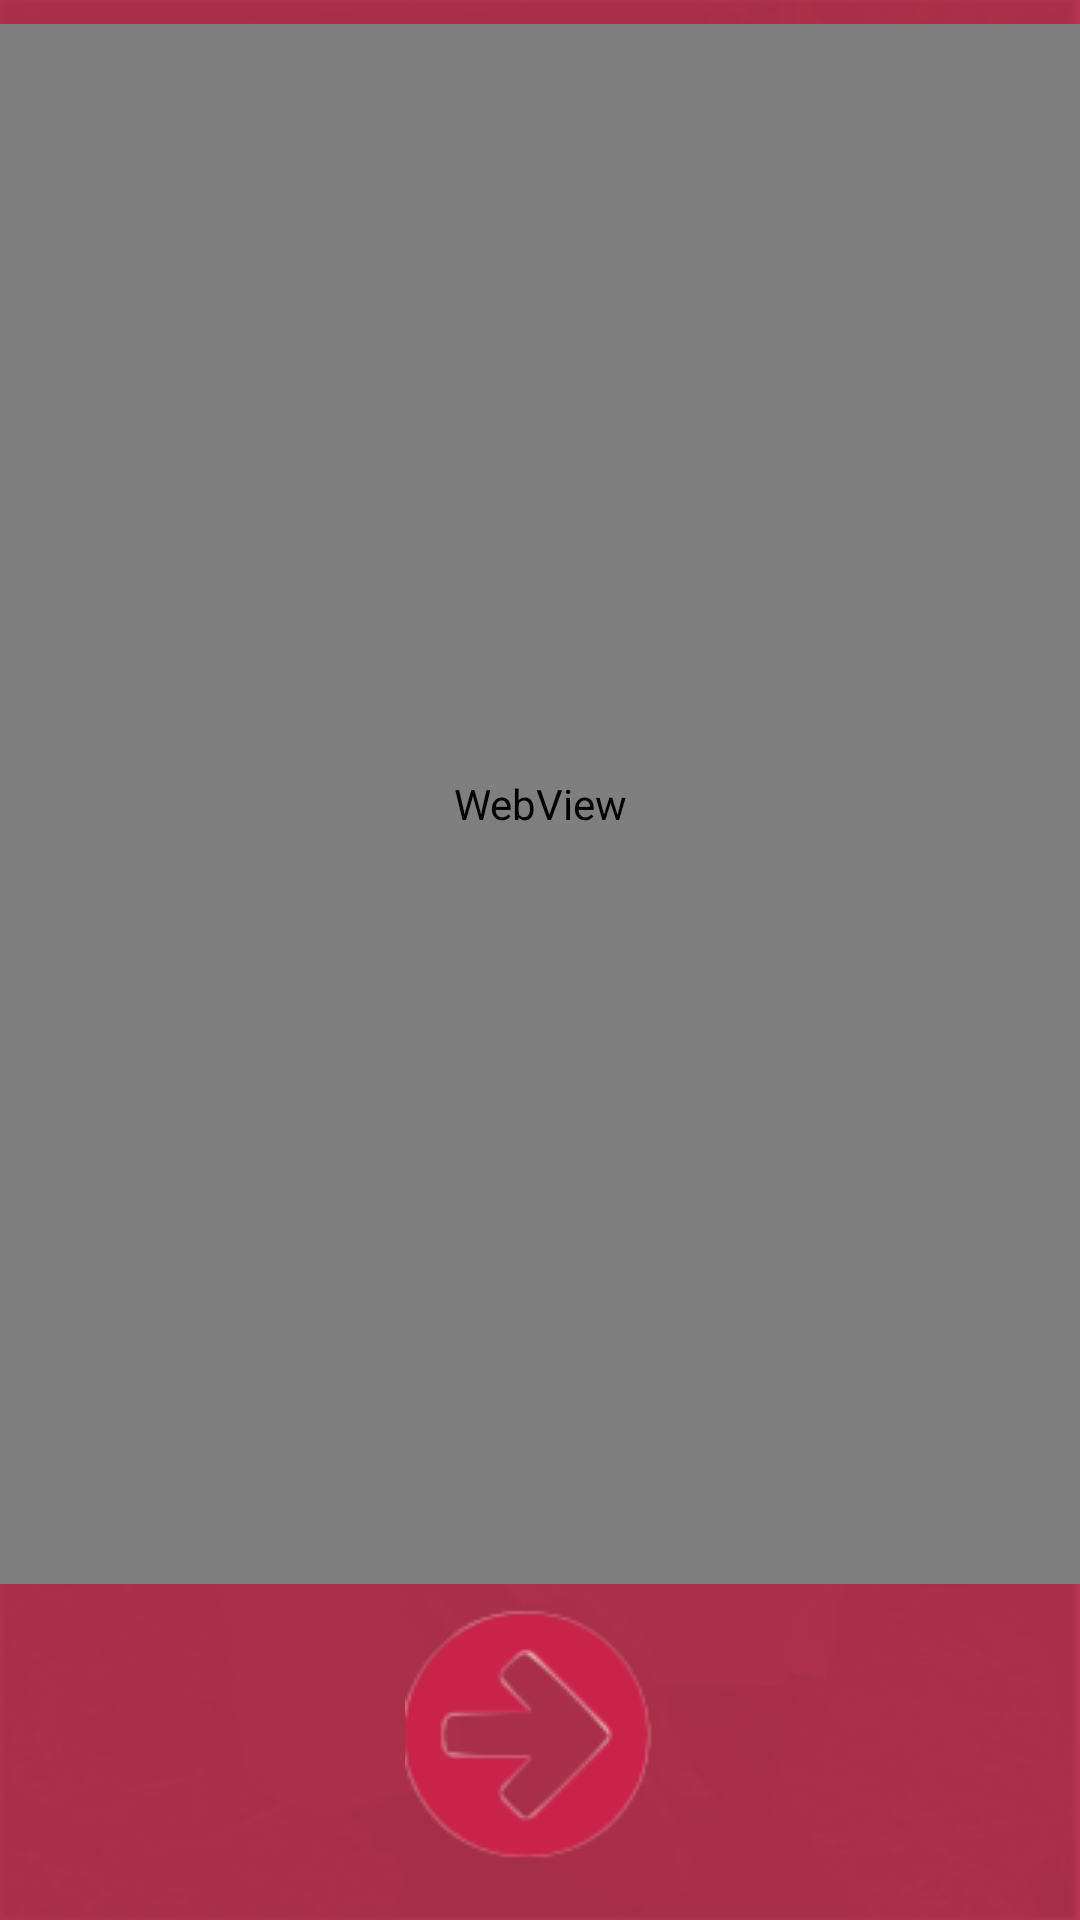

Where to tap for icons on this 1080px x 1920px app screen, as (x=x, y=y):
next: (x=527, y=1733)
